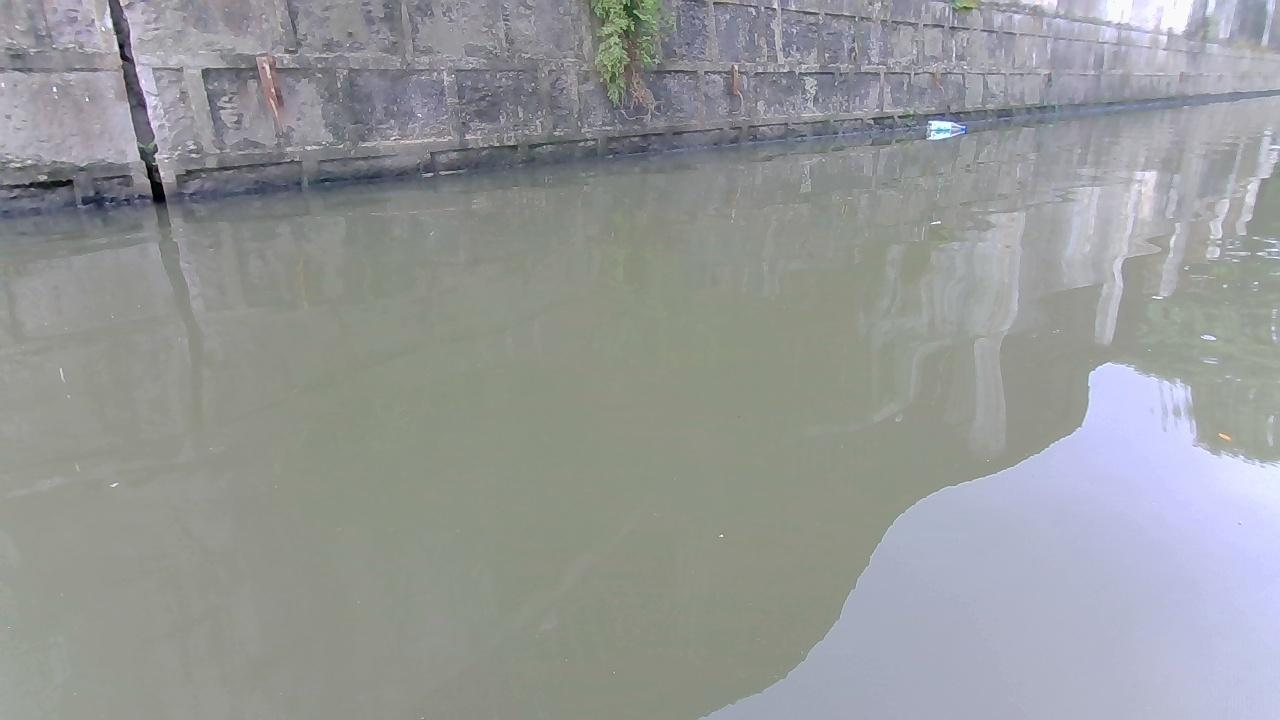bottle: (924, 117, 966, 133)
